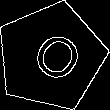O_SW: (19, 24, 83, 89)
